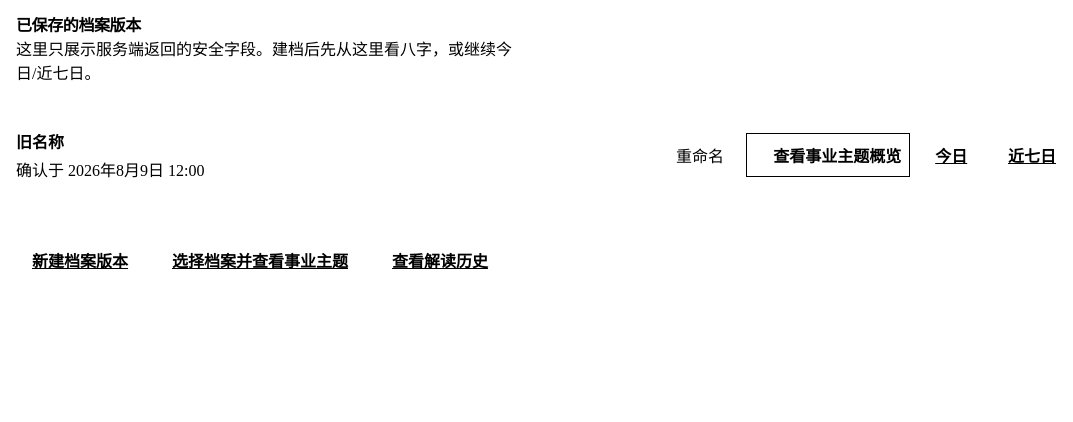
it: ProfileArchive › links rename failures to the input and returns the stateful button to idle
Click the button "重命名": (700, 155) [662,133,738,177]
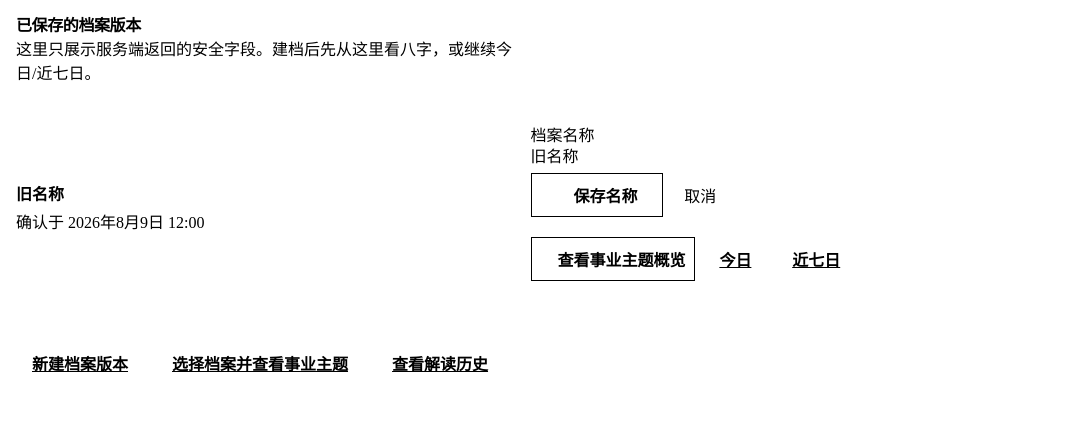
Replace the text in the field labelled "档案名称" with "新名称": (739, 155) [531,146,947,164]
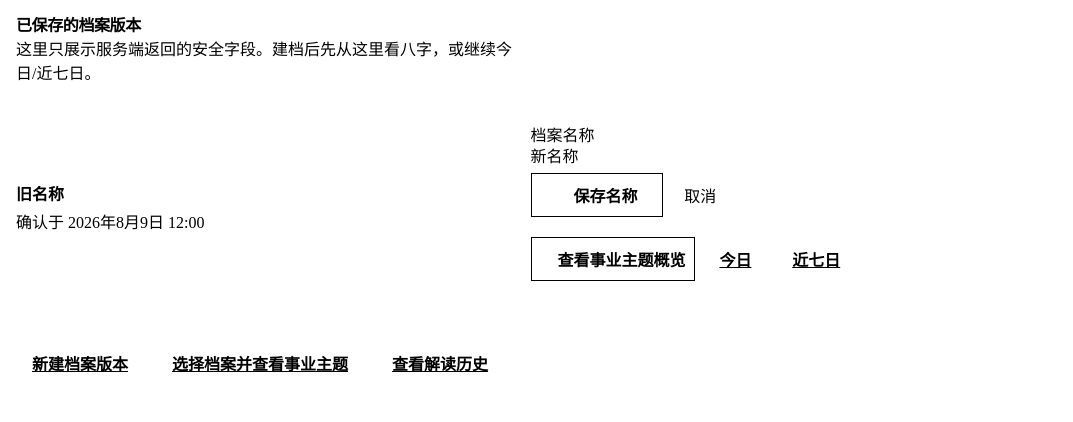
Click the button "保存名称": (597, 195) [531,173,663,217]
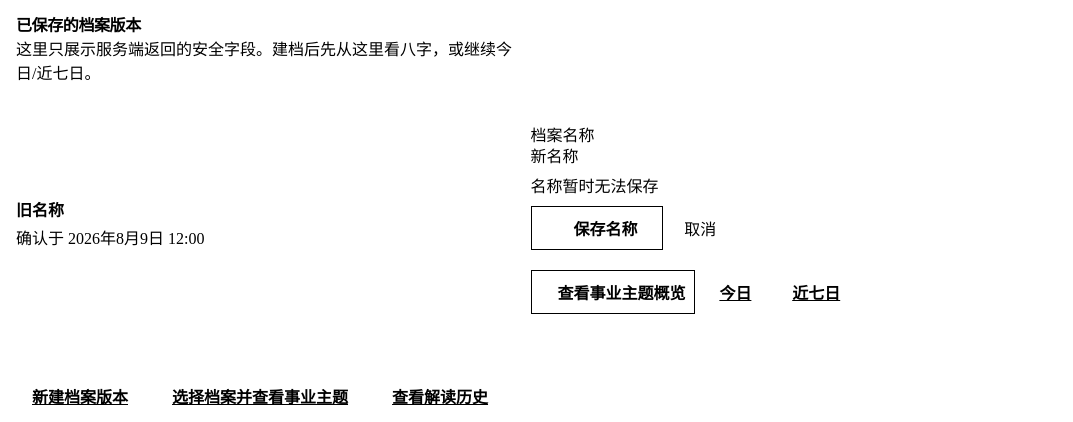
Check: the button named "保存失败" is enabled, box [531,206,663,250]
Check: the button "保存名称" is enabled, box [531,206,663,250]
Check: the message reads "名称暂时无法保存", box [531,178,659,195]
